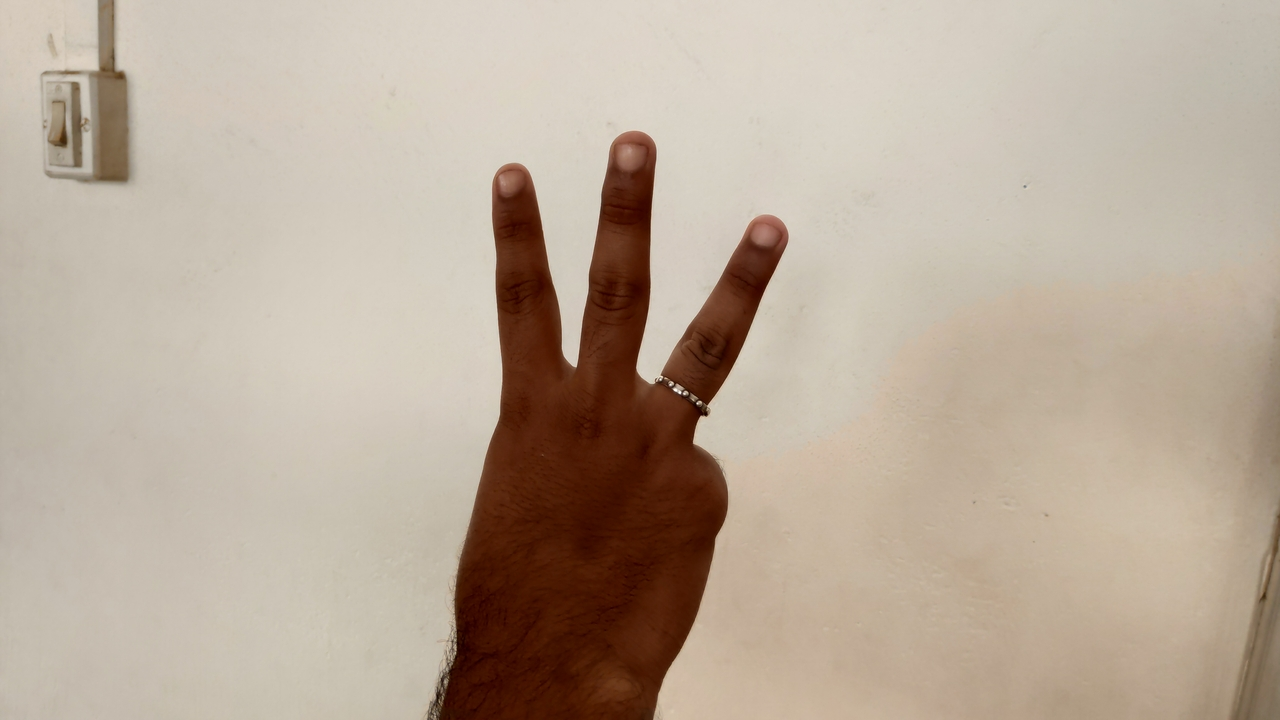fingertip: (732, 204, 796, 262), (600, 126, 660, 182), (484, 156, 542, 208)
